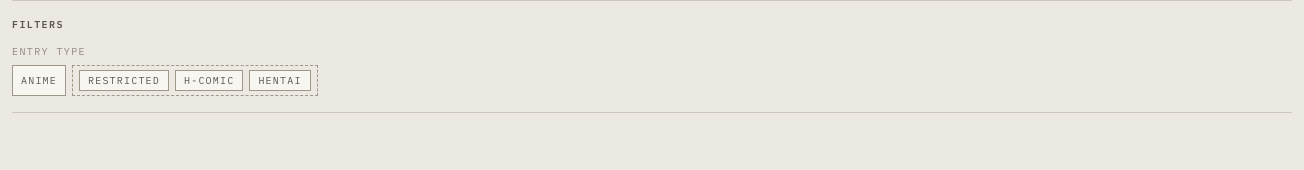
Test case: turns the rest on from some, and a child toggles only itself
The image size is (1304, 170).
Click the button "anime": (39, 80) [12,65,66,96]
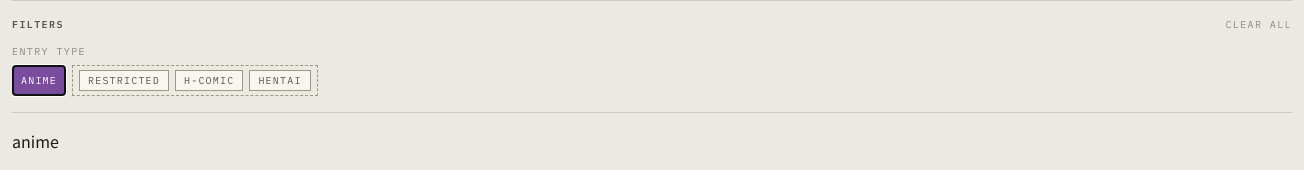
Click the button "hentai": (280, 80) [249,70,311,91]
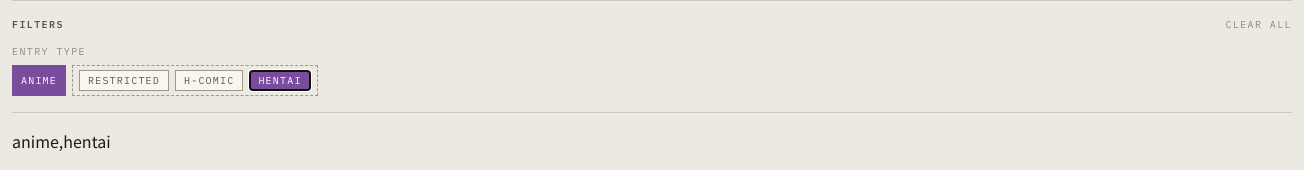
Expected: the text "anime,hentai" is shown, [12,129,111,153]
Click the button "Restricted": (124, 80) [79,70,169,91]
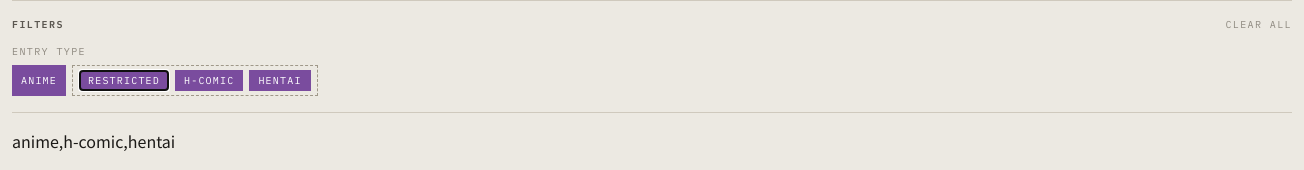
Expected: the text "anime,h-comic,hentai" is shown, [12,129,175,153]
Click the button "h-comic": (209, 80) [175,70,243,91]
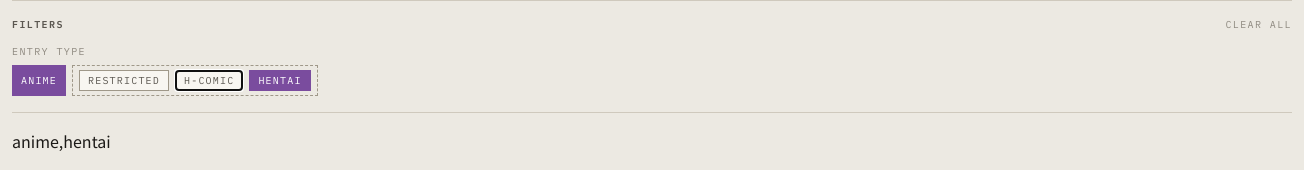
Expected: the text "anime,hentai" is shown, [12,129,111,153]
